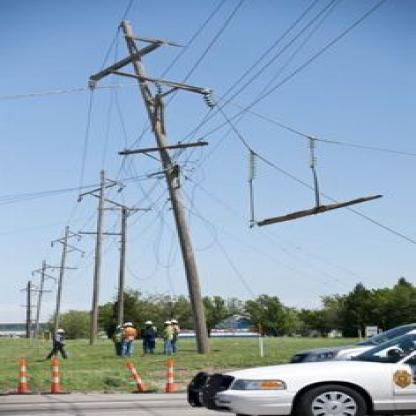Electrical Pole: (76, 11, 267, 359)
